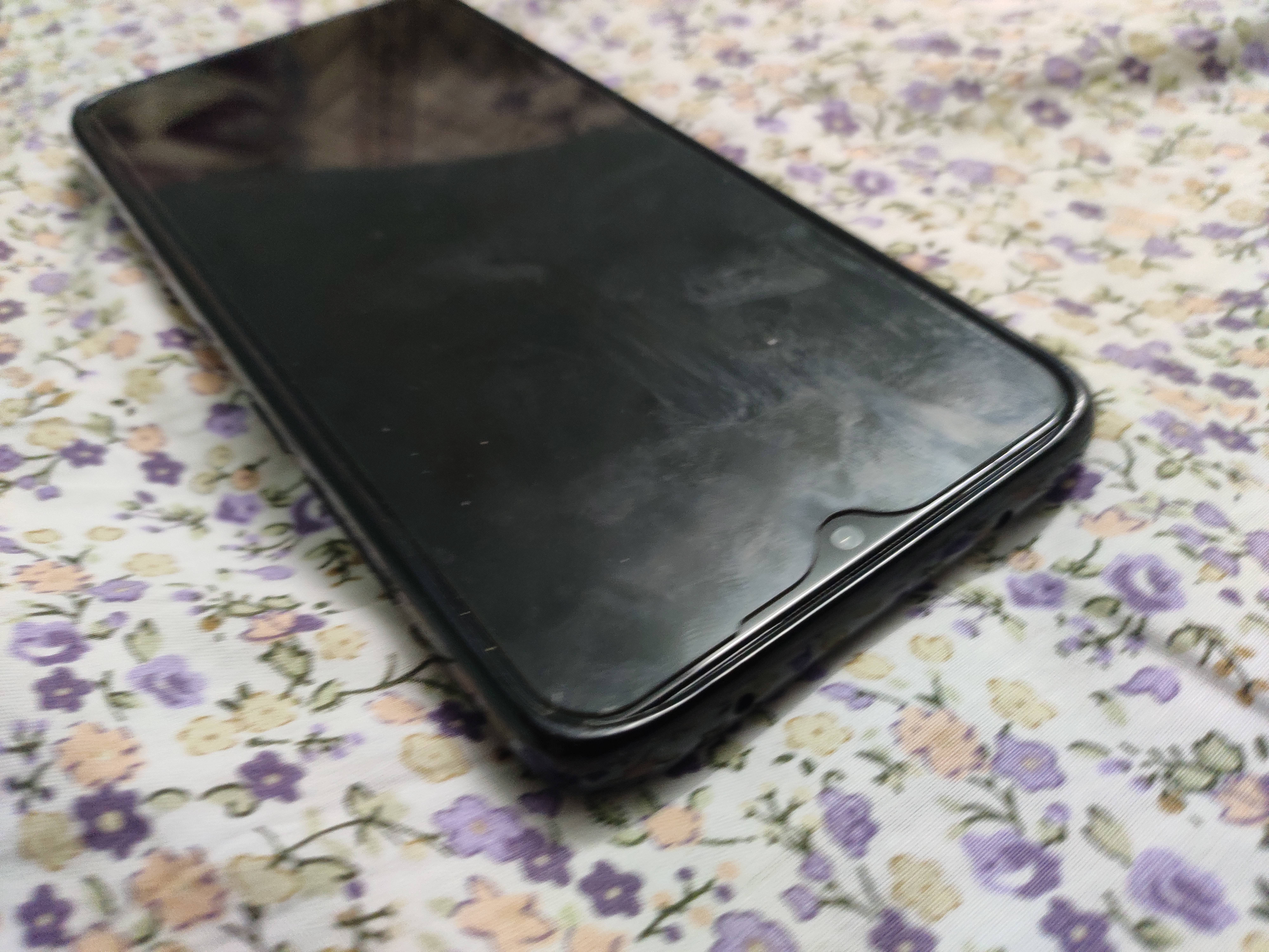Electronics: (51, 0, 1117, 823)
